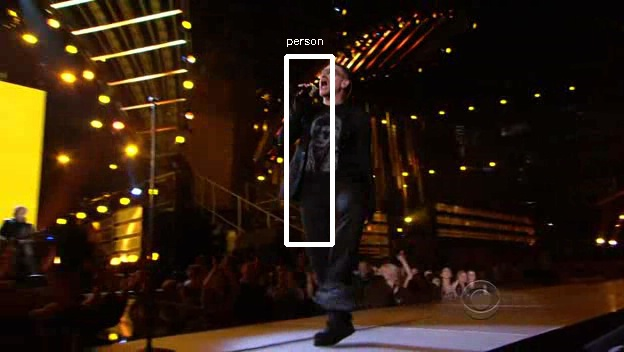person: (285, 64, 368, 229), (282, 64, 365, 229), (288, 64, 371, 229), (285, 61, 368, 226), (285, 67, 368, 232)
target_negative: (74, 235, 290, 330), (429, 289, 613, 338), (392, 96, 412, 246), (20, 344, 584, 349), (52, 136, 145, 159), (551, 342, 566, 352)
